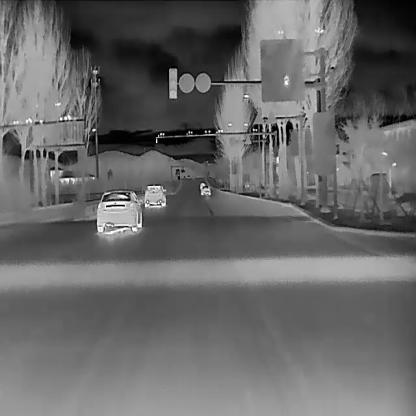car: (96, 188, 142, 232), (142, 182, 165, 206), (200, 184, 211, 195)
